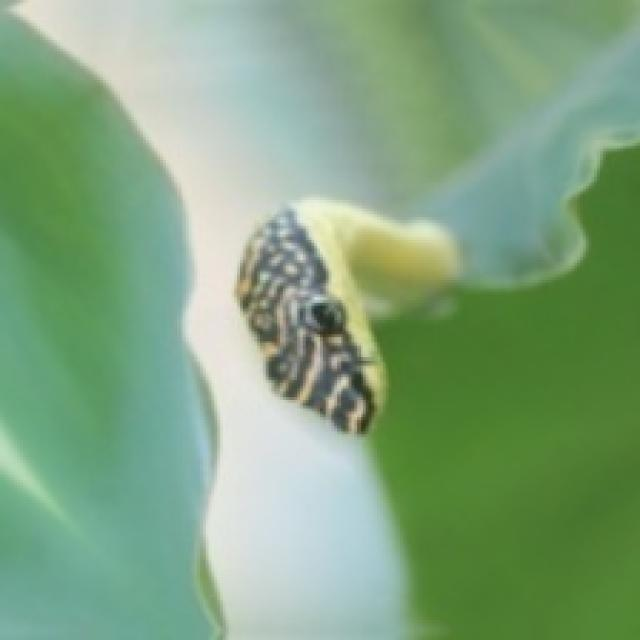paradise tree snake: (237, 197, 457, 431)
